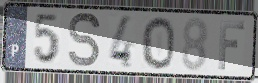4: (106, 13, 137, 70)
5: (32, 13, 62, 65)
8: (180, 15, 211, 73)
F: (217, 19, 247, 72)
O: (140, 15, 176, 71)
S: (67, 11, 102, 70)
